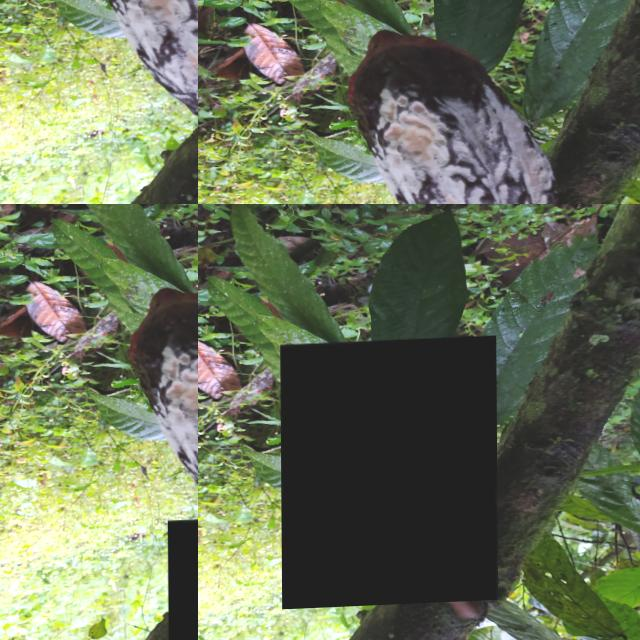Monilia: (280, 340, 497, 611)
Sana: (40, 204, 128, 346), (258, 0, 346, 88), (497, 0, 572, 102), (437, 0, 521, 81), (0, 255, 55, 333), (216, 0, 273, 75), (167, 520, 198, 640), (372, 117, 417, 175), (154, 375, 198, 433), (466, 71, 498, 105), (9, 445, 28, 474), (226, 187, 246, 204)
